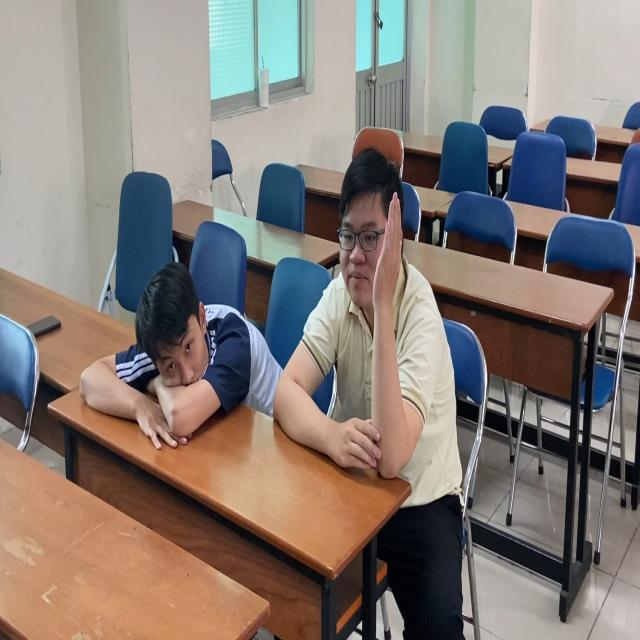raise_hand: (274, 152, 439, 487)
